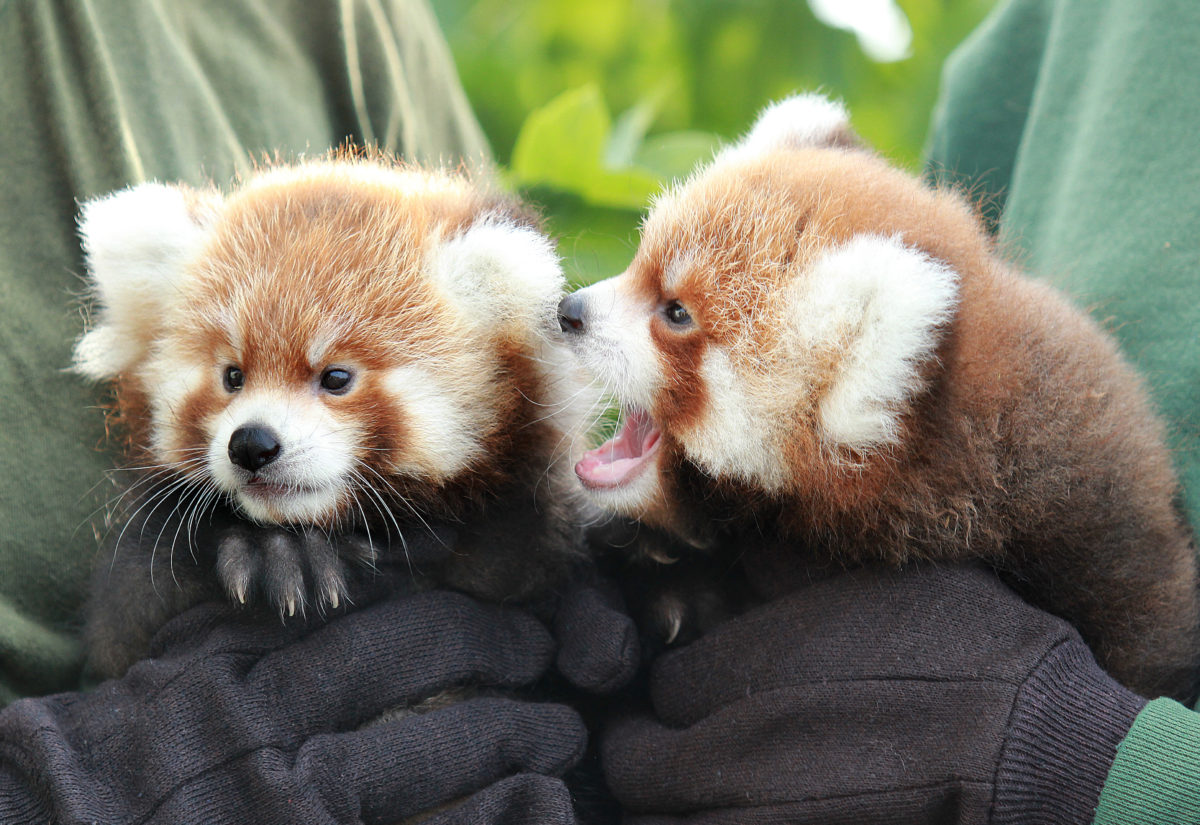red_panda: (559, 95, 1200, 642), (86, 152, 559, 615)
